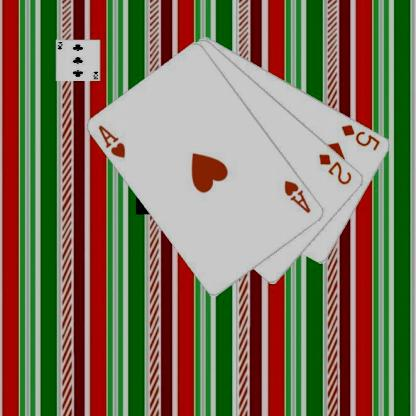2D: (316, 151, 354, 186)
5D: (339, 121, 381, 152)
AH: (96, 122, 127, 160), (282, 177, 312, 215)
